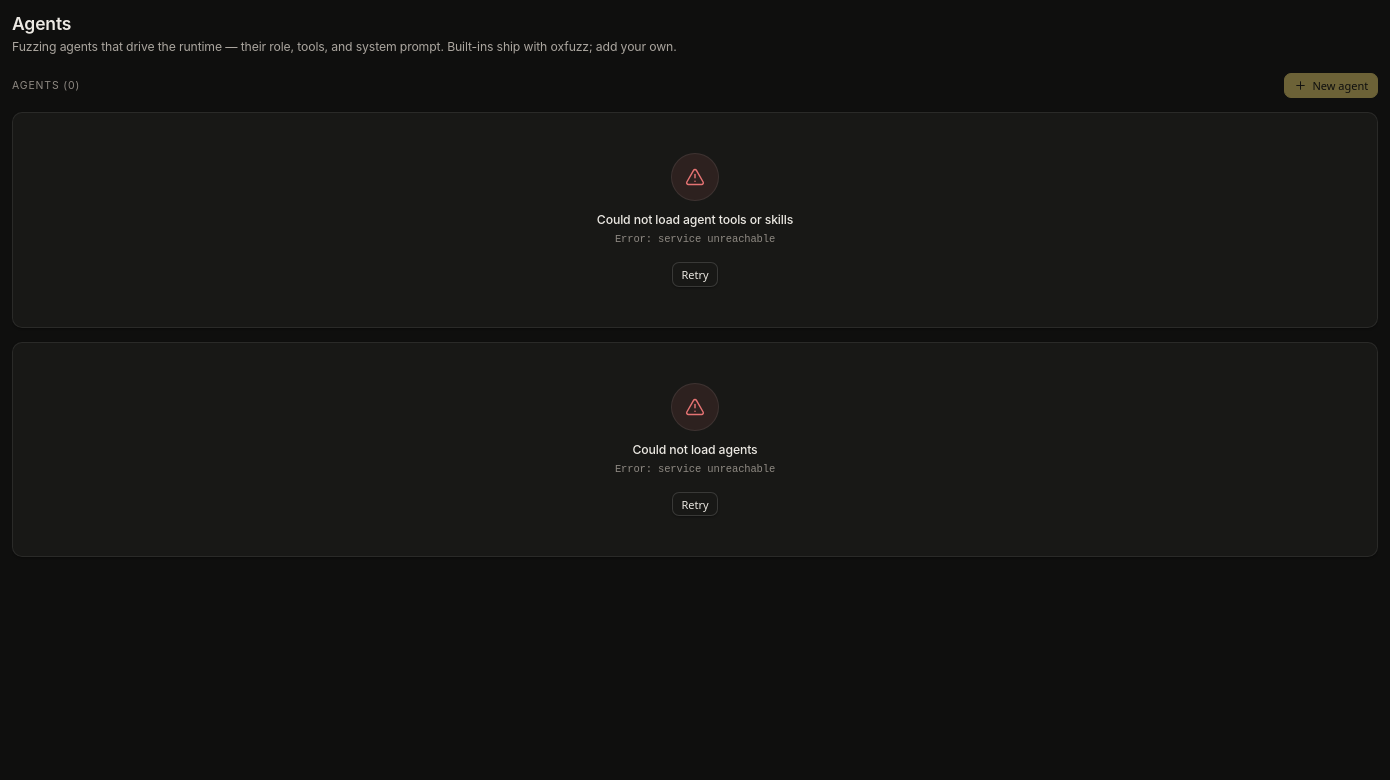
shows a agents load failure with Retry instead of an empty list
The width and height of the screenshot is (1390, 780).
Click the button "Retry" below "Could not load agent tools or skills" at (695, 274), box [672,262,718,286]
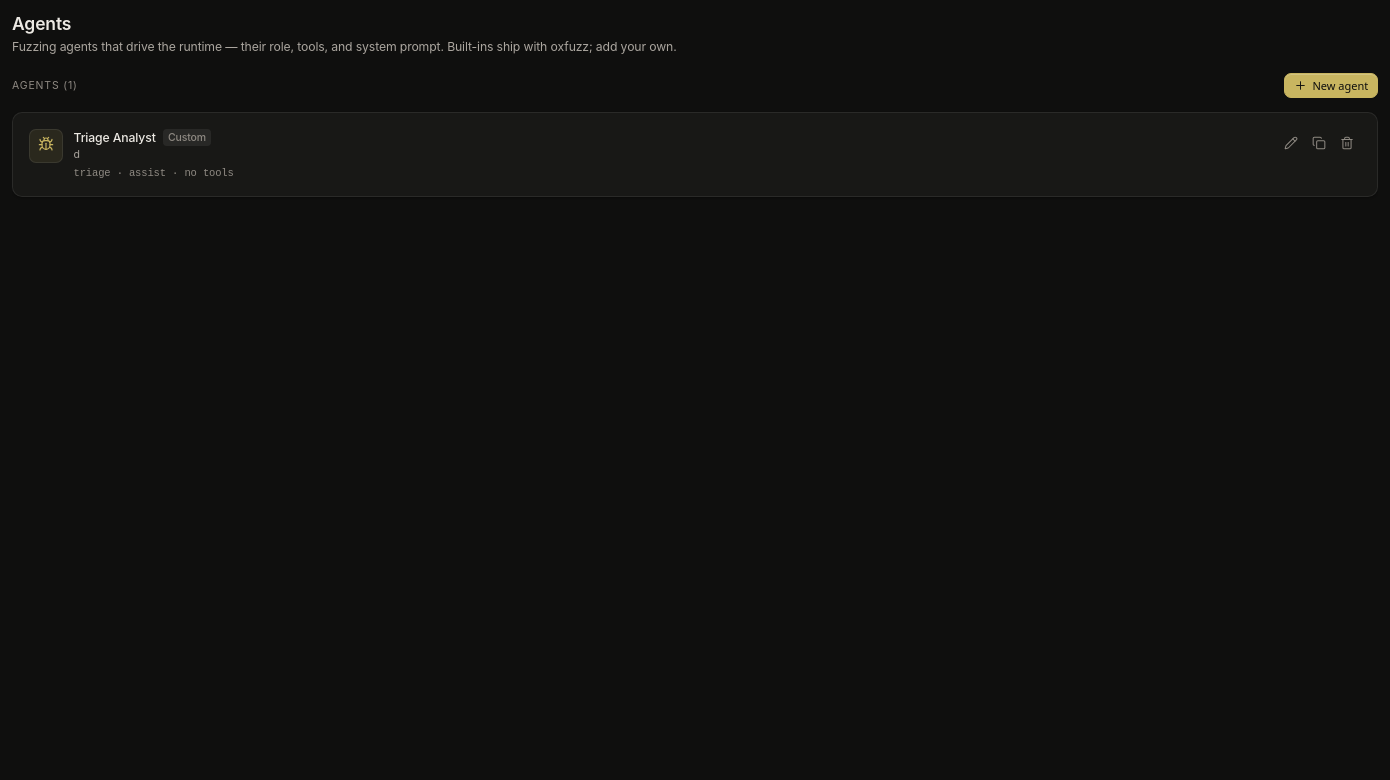
Now the text "Triage Analyst" is shown, box [74,130,156,145]
Now the text "Could not load agents" is gone
